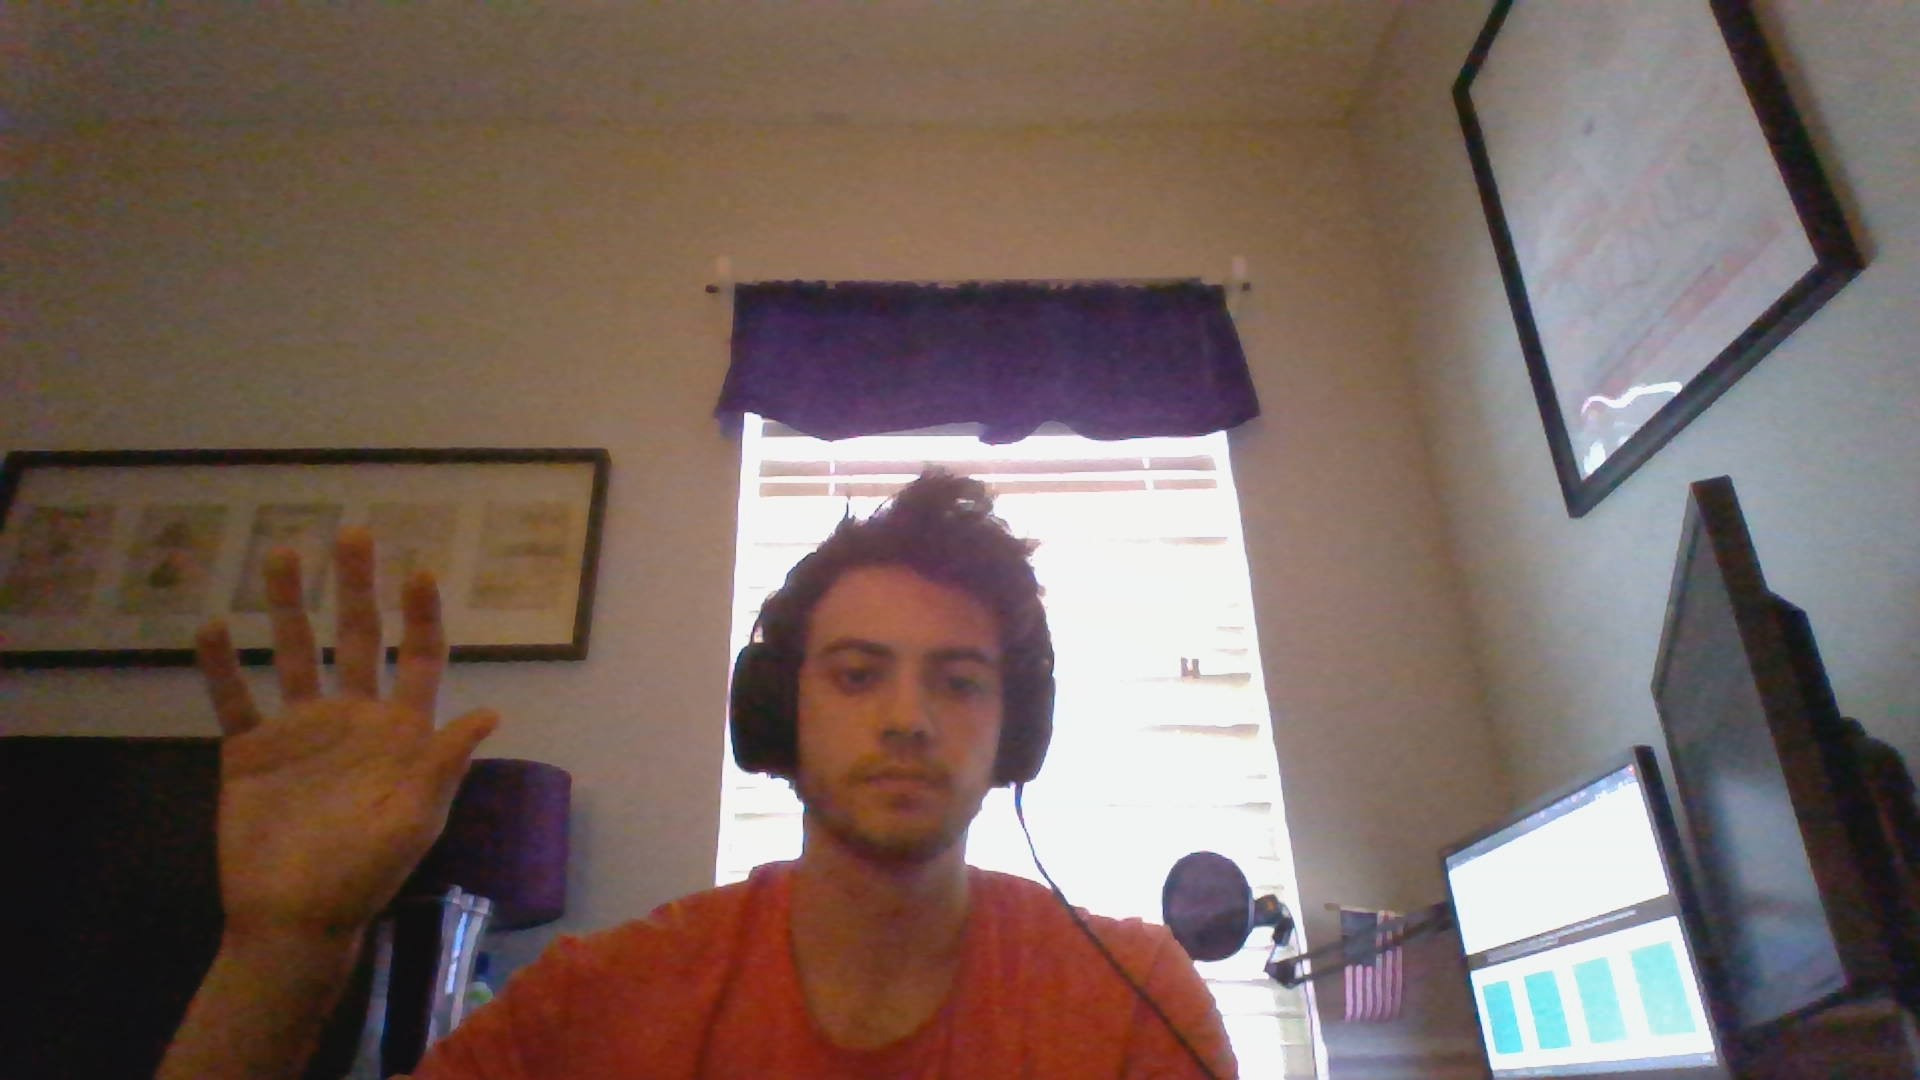Right Palm Up: (183, 529, 508, 945)
